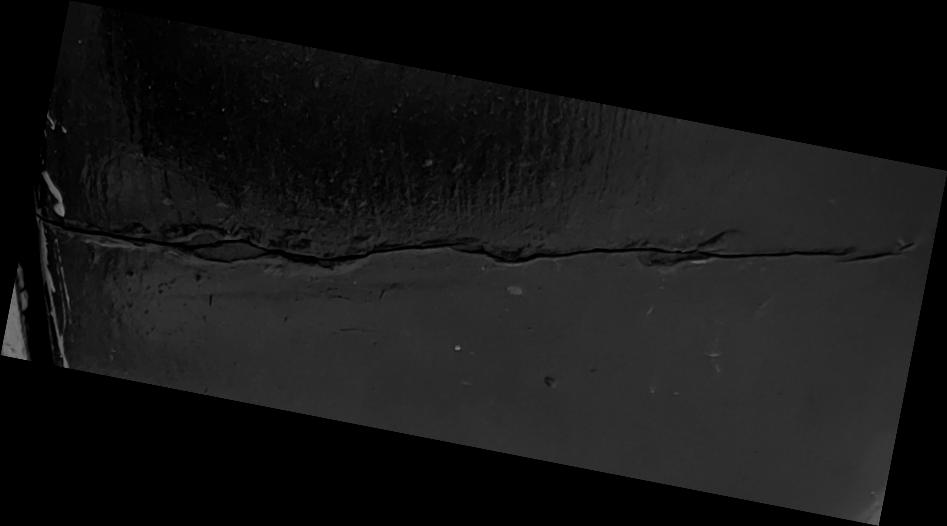crack: (1, 0, 947, 526)
